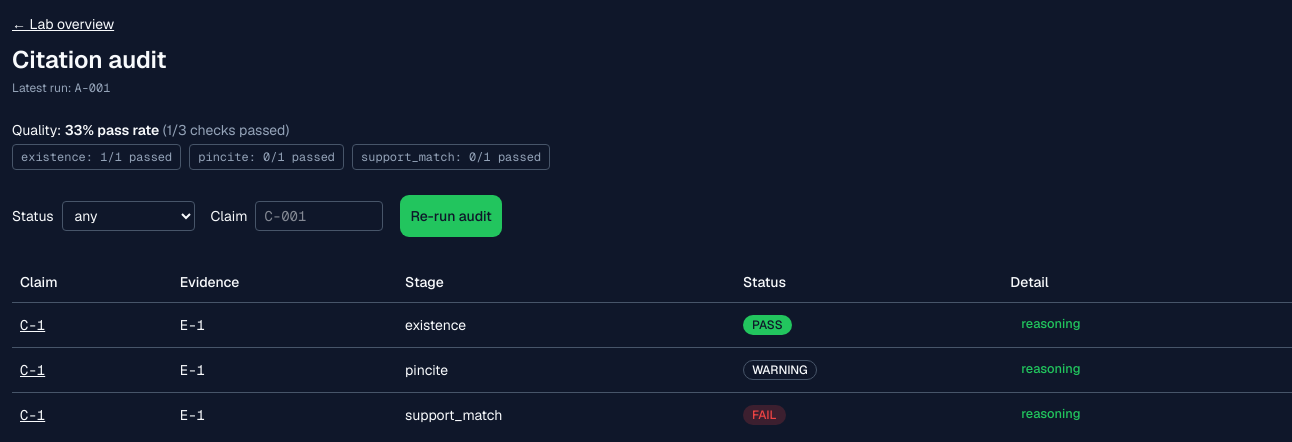
Test case: AuditPage › re-runs and reloads
Expected: the text "A-001" is shown, [74,80,110,96]
Click the button "Re-run audit".
click(451, 216)  # box [399,194,503,238]
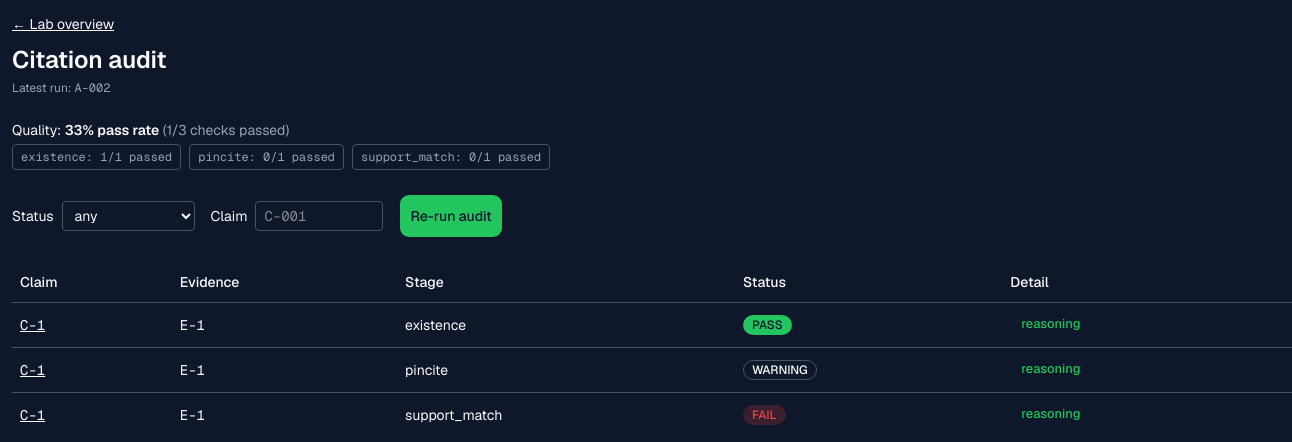
Now the text "A-002" is shown, box [74,80,110,96]
